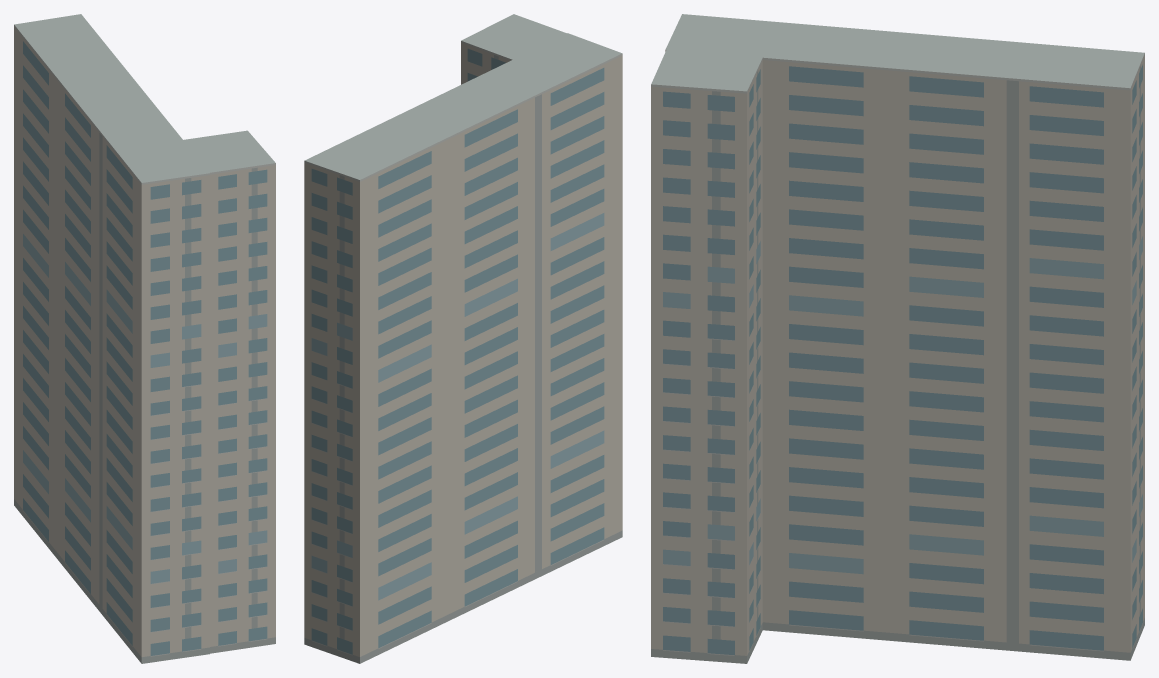
Rendered from survey-upis-32793110.glb.
3 renders of one model, left to right at view 1: azimuth 30°, elevation 25°; view 2: azimuth 150°, elevation 25°; view 3: azimuth 270°, elevation 25°, orthographic. The views are drawn at different scales.
Visible parts, largest first — view 1: survey-upis-32793110.tmp; view 2: survey-upis-32793110.tmp; view 3: survey-upis-32793110.tmp.
Part boxes in pixels (<box>): survey-upis-32793110.tmp: <box>14,14,275,663</box>; survey-upis-32793110.tmp: <box>304,14,622,663</box>; survey-upis-32793110.tmp: <box>651,14,1144,663</box>.
Bounding box in the file's own units: 17.7 × 61 × 47.69.
